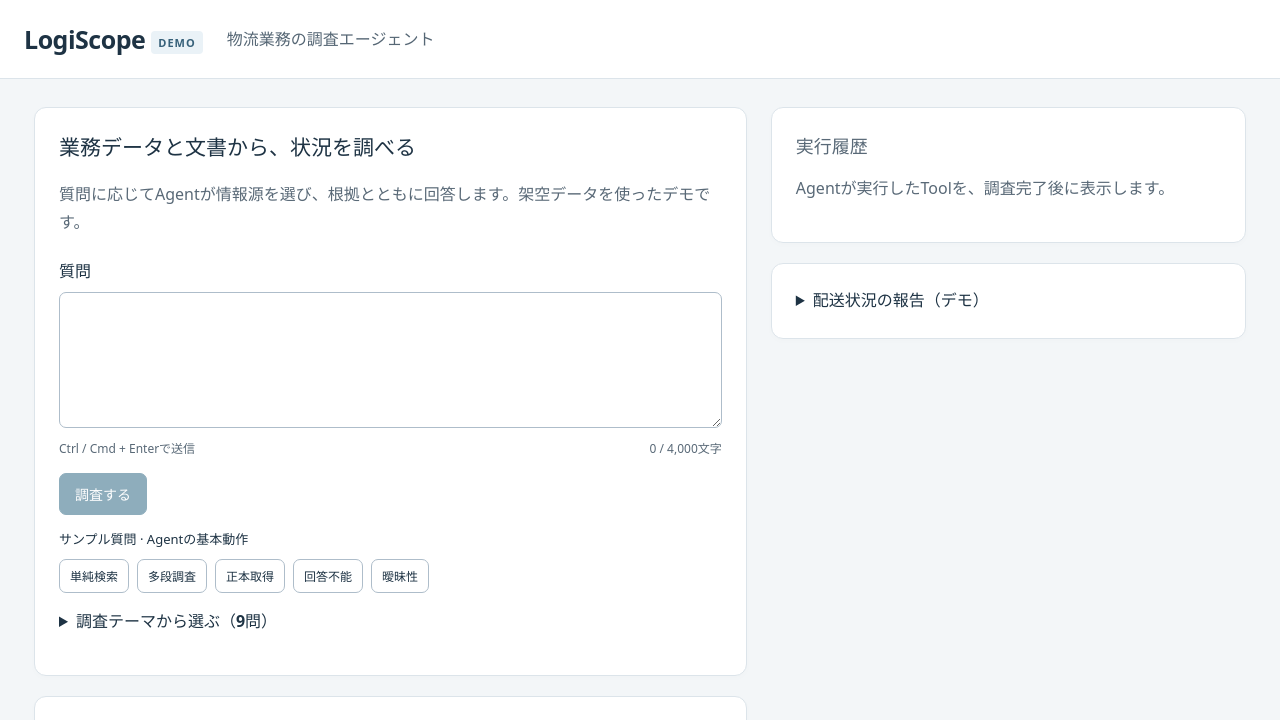
Test: busy error retains input and allows another send
In the text box labelled "質問": [390, 360] box left=59, top=292, right=722, bottom=428, type "遅延原因は？"
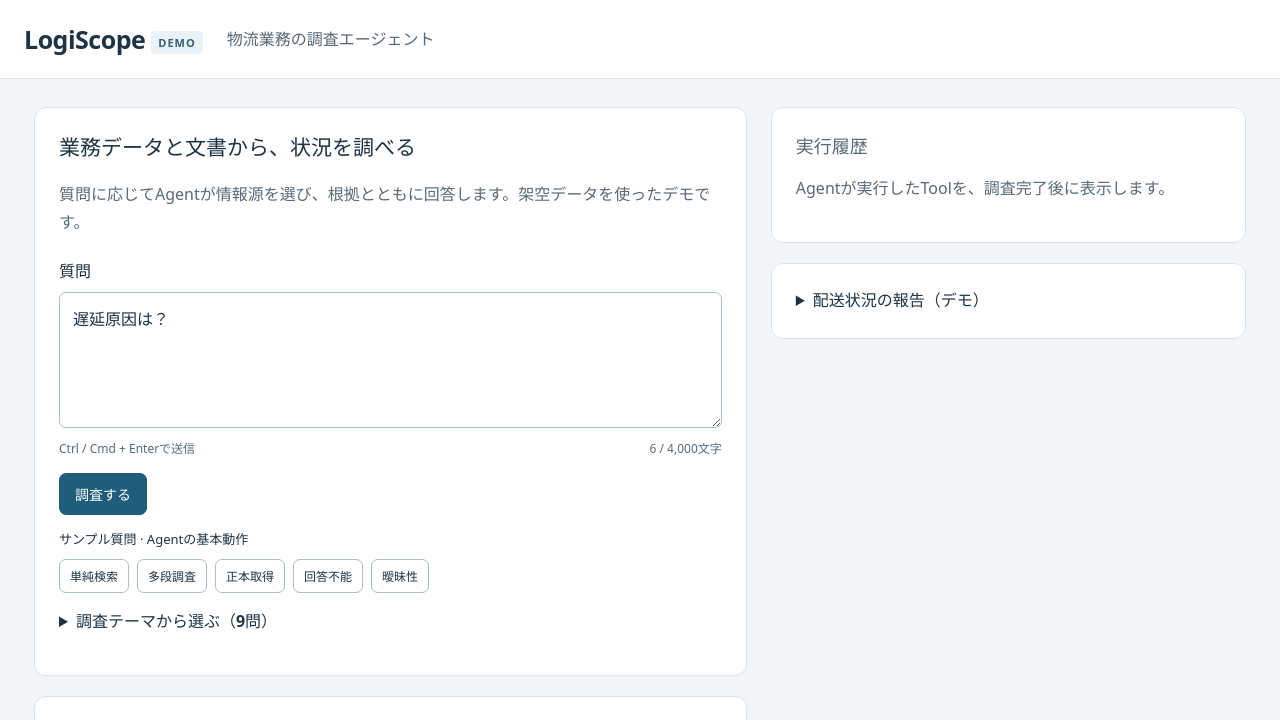
Submit the form "調査する", box left=59, top=258, right=722, bottom=515
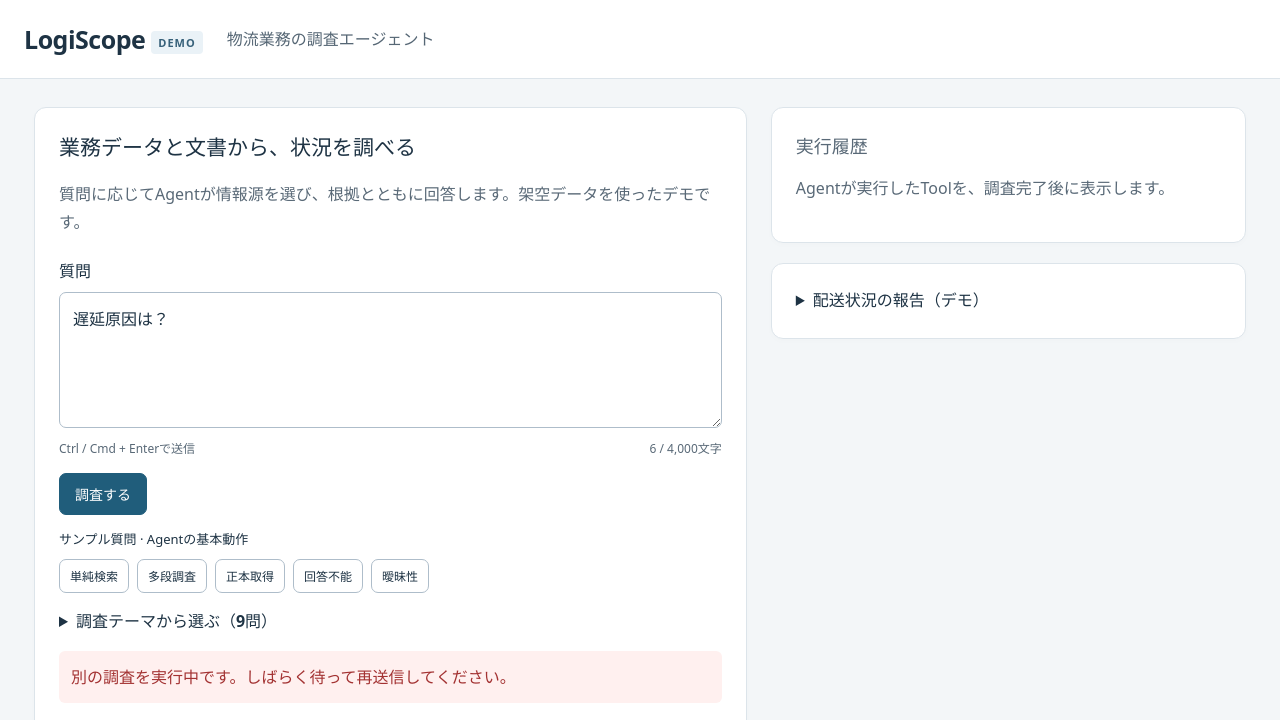
Expected: the button "調査する" is enabled, left=59, top=473, right=147, bottom=515
Expected: the message "別の調査を実行中です。しばらく待って再送信してください。" is shown, left=59, top=651, right=722, bottom=703
